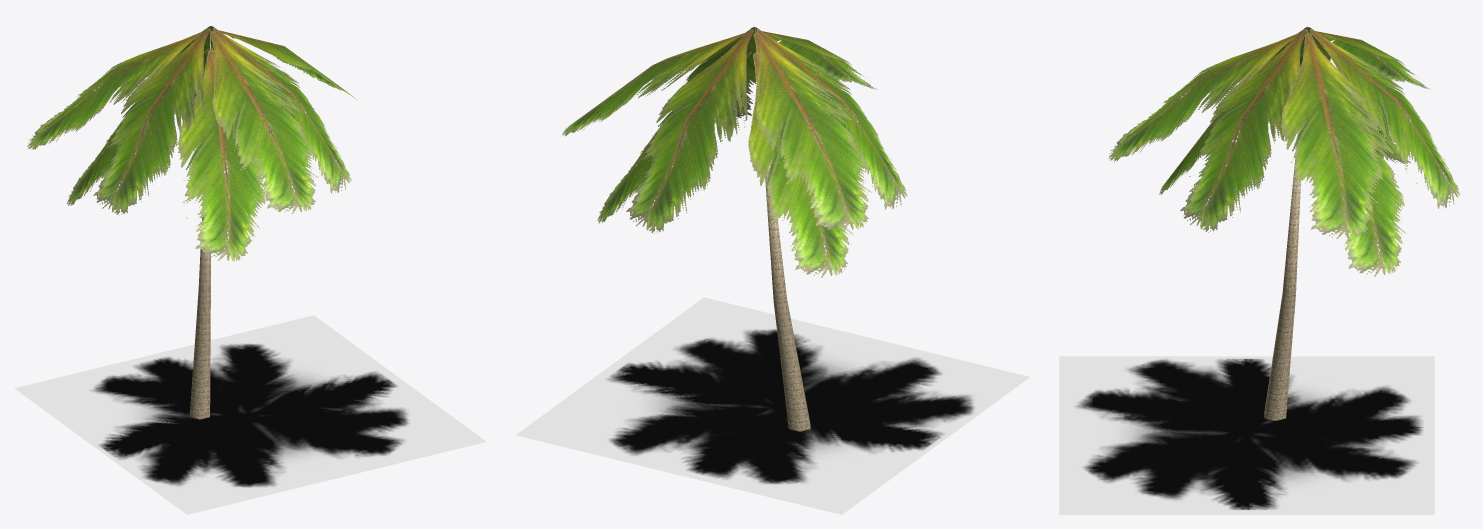
The model's file is F2_Walk_Tree_Yashi.dae.
3 renders of one model, left to right at view 1: azimuth 30°, elevation 25°; view 2: azimuth 150°, elevation 25°; view 3: azimuth 270°, elevation 25°, orthographic. The views are drawn at different scales.
Parts seen in each view (by area): view 1: Yashi_Shadow_2_0_node, polySurface32_0_0_node, Yashi_Miki_1_0_node; view 2: Yashi_Shadow_2_0_node, polySurface32_0_0_node, Yashi_Miki_1_0_node; view 3: Yashi_Shadow_2_0_node, polySurface32_0_0_node, Yashi_Miki_1_0_node.
Boxes of the visible parts, <box> form: Yashi_Shadow_2_0_node: <box>14,315,486,514</box>; polySurface32_0_0_node: <box>27,26,357,261</box>; Yashi_Miki_1_0_node: <box>190,29,210,419</box>; Yashi_Shadow_2_0_node: <box>516,297,1029,514</box>; polySurface32_0_0_node: <box>562,27,907,277</box>; Yashi_Miki_1_0_node: <box>754,25,810,431</box>; Yashi_Shadow_2_0_node: <box>1059,356,1434,514</box>; polySurface32_0_0_node: <box>1108,27,1460,277</box>; Yashi_Miki_1_0_node: <box>1264,26,1307,420</box>.
Bounding box in the file's own units: 42.31 × 47.77 × 43.61.
3 materials, 3 textured.
